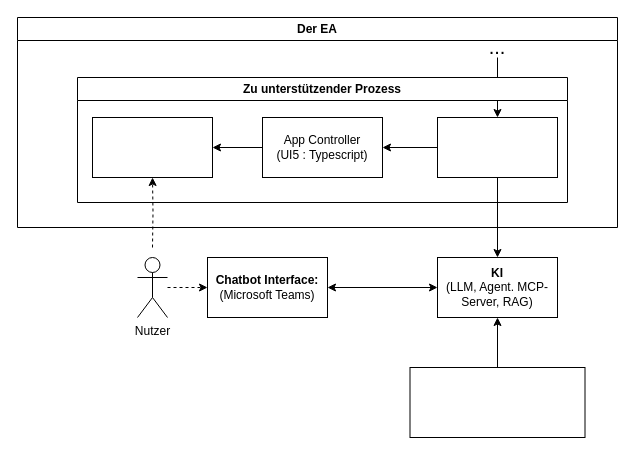
This 635x455 diagram has some shape labels left out. The centre of each missing label's shape, as x and y in pixels:
Externe Wissensquellen: (Text -> RAG, API´s -> MCP, Agents): (x=497, y=402)
Frontend (UI5 : XML): (x=152, y=147)
oData Schnittstelle: (x=497, y=147)
